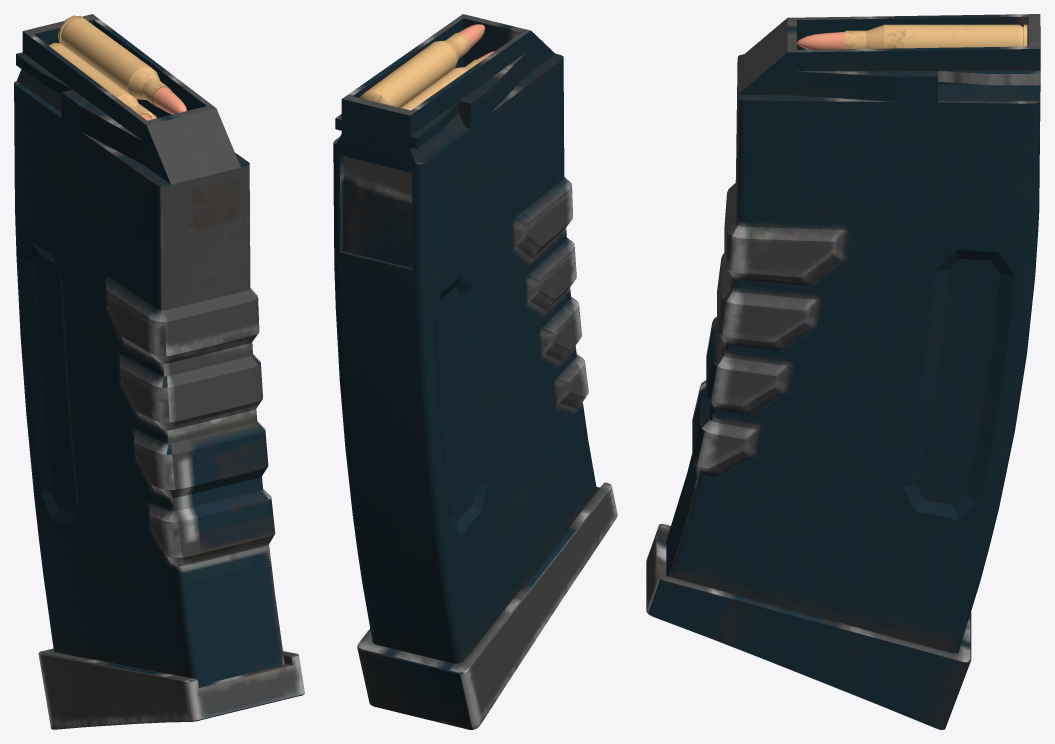
Rendered from Mag_556_24rnds.glb.
3 views of the same model, side by side, from view 1: azimuth 30°, elevation 25°; view 2: azimuth 150°, elevation 25°; view 3: azimuth 270°, elevation 25° (orthographic). The views are drawn at different scales.
Parts seen in each view (by area): view 1: Mag_556_24rnds, Cartridge1.008, Cartridge2.008; view 2: Mag_556_24rnds, Cartridge1.008, Cartridge2.008; view 3: Mag_556_24rnds, Cartridge1.008.
Boxes of the visible parts, bbox=[...] form: Mag_556_24rnds: bbox=[14, 14, 304, 729]; Cartridge1.008: bbox=[58, 15, 186, 114]; Cartridge2.008: bbox=[48, 43, 152, 120]; Mag_556_24rnds: bbox=[333, 14, 617, 729]; Cartridge1.008: bbox=[360, 24, 484, 107]; Cartridge2.008: bbox=[401, 51, 494, 110]; Mag_556_24rnds: bbox=[646, 14, 1040, 729]; Cartridge1.008: bbox=[797, 24, 1027, 49].
Bounding box in the file's own units: 0.0311 × 0.1763 × 0.0923.
2 materials, 2 textured.
